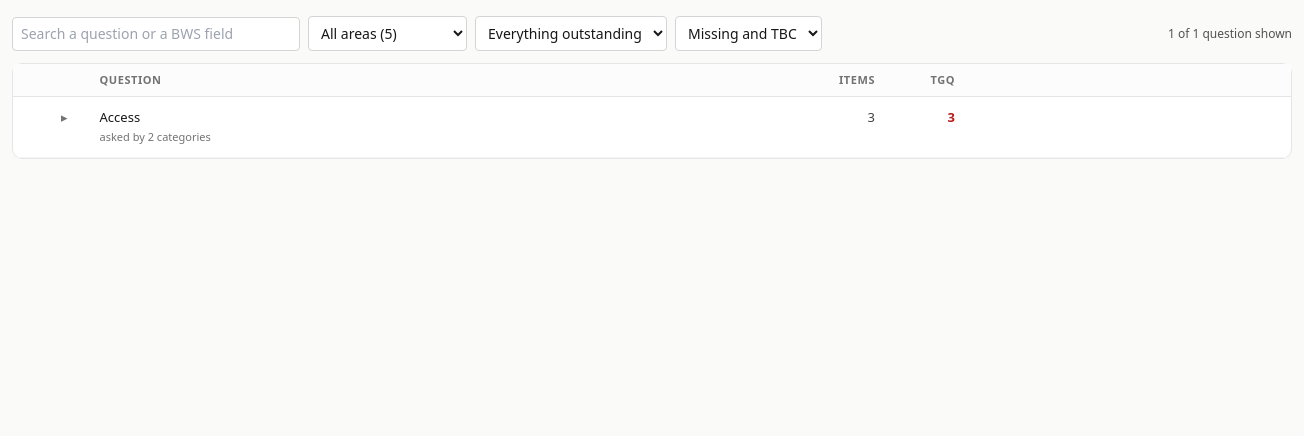
Test case: QuestionGroups — one value on the ticked items › ticks only the LOADED, VISIBLE rows, and says which number that is
Click the text "Access".
click(120, 117)  # box [100, 108, 140, 126]
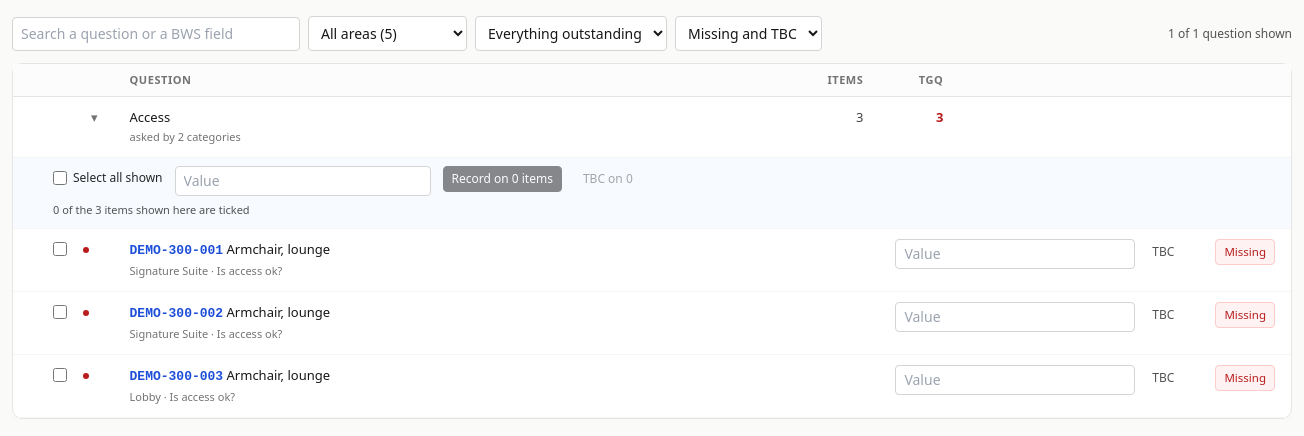
Click the checkbox named "Select every item shown under Access".
click(60, 178)  # box [53, 171, 67, 185]
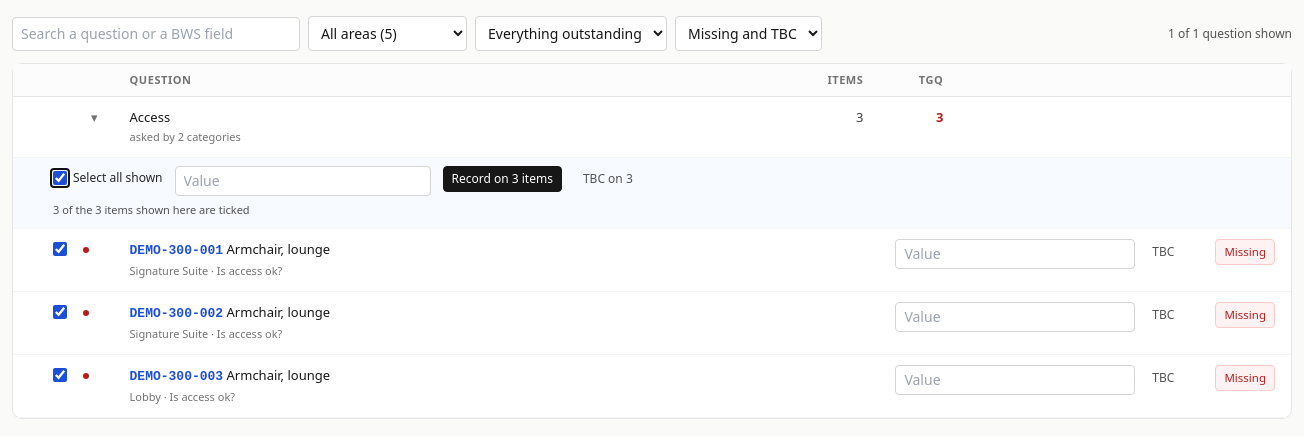
Expected: the text "3 of the 3 items shown here are ticked" is shown, [53, 202, 250, 217]
Expected: the button "Record on 3 items" is shown, [442, 166, 562, 192]
